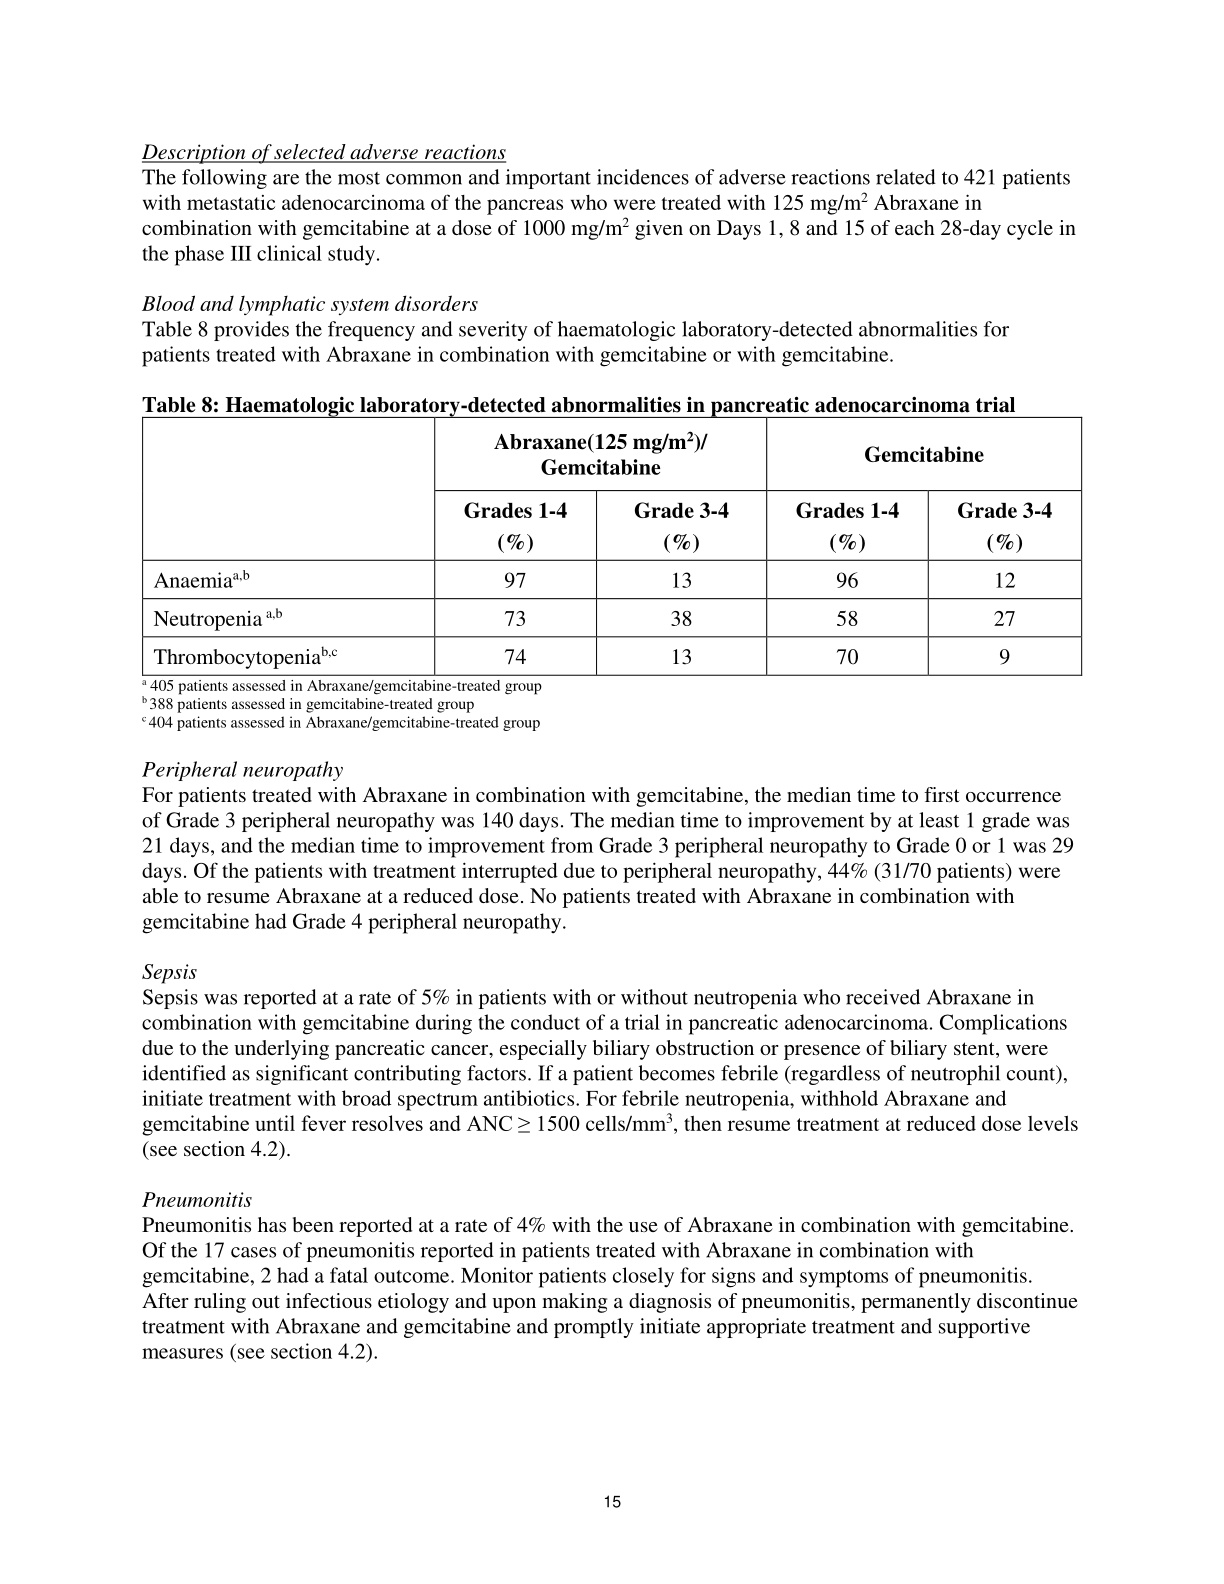merged_cells: (141, 415, 1083, 676)
